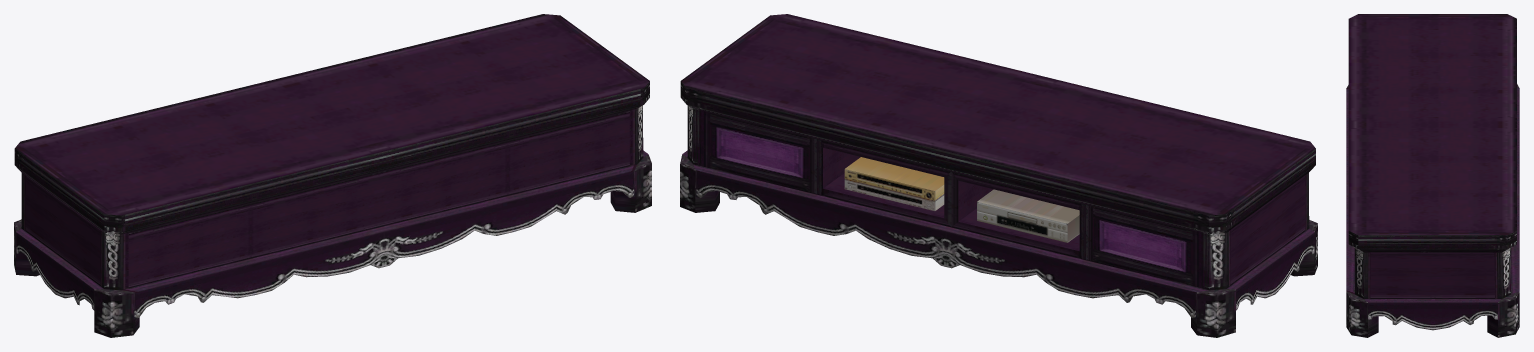
The model's file is furni_0201220_02.FBX.
3 views of the same model, side by side, from view 1: azimuth 30°, elevation 25°; view 2: azimuth 150°, elevation 25°; view 3: azimuth 270°, elevation 25° (orthographic). The views are drawn at different scales.
Visible parts, largest first — view 1: furni_0201220_02; view 2: furni_0201220_02; view 3: furni_0201220_02.
Part boxes in pixels (x1,y1,x2,y2): furni_0201220_02: (14, 14, 651, 337); furni_0201220_02: (680, 14, 1317, 337); furni_0201220_02: (1346, 14, 1519, 337).
Bounding box in the file's own units: 239 × 50.05 × 77.86.
